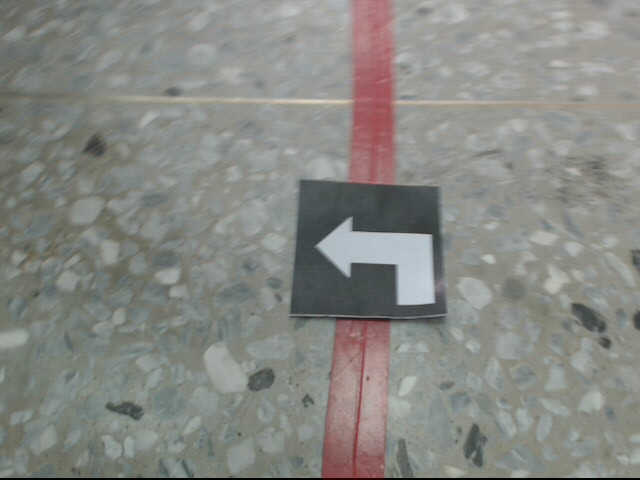left: (287, 174, 447, 321)
